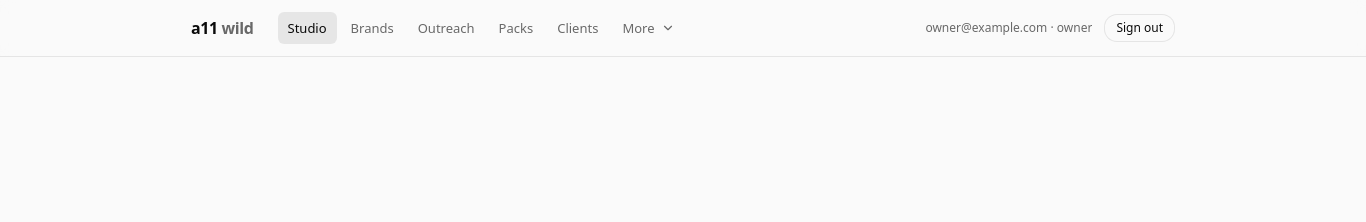
Test case: Shell › keeps the sections of every day in the bar and the others behind More
Check: the links read "Studio", "Brands", "Outreach", "Packs", "Clients", in this order, box [278, 12, 337, 44]; [351, 19, 394, 37]; [418, 19, 475, 37]; [499, 19, 533, 37]; [557, 19, 598, 37]
What coordinates should you click on to do the following:
click the button named "More, other sections"
I would click on:
 (648, 28)
Its box is [612, 12, 684, 44].
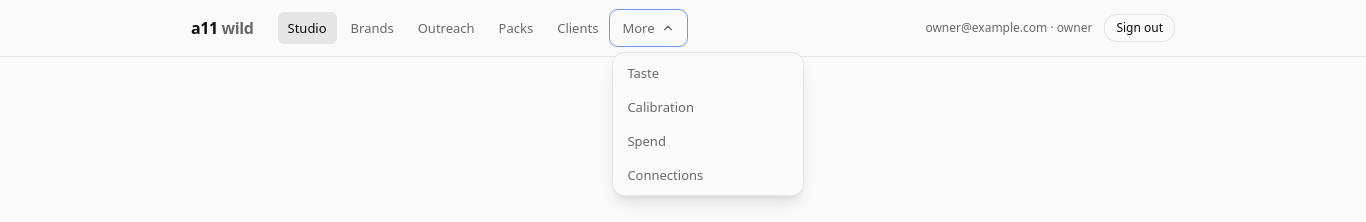
Check: the button named "More, other sections" is expanded, box [612, 12, 684, 44]
